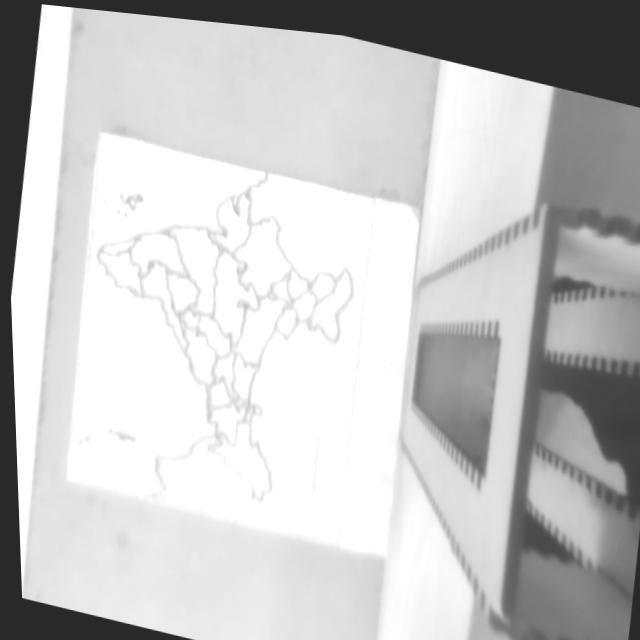map: (58, 132, 379, 547)
